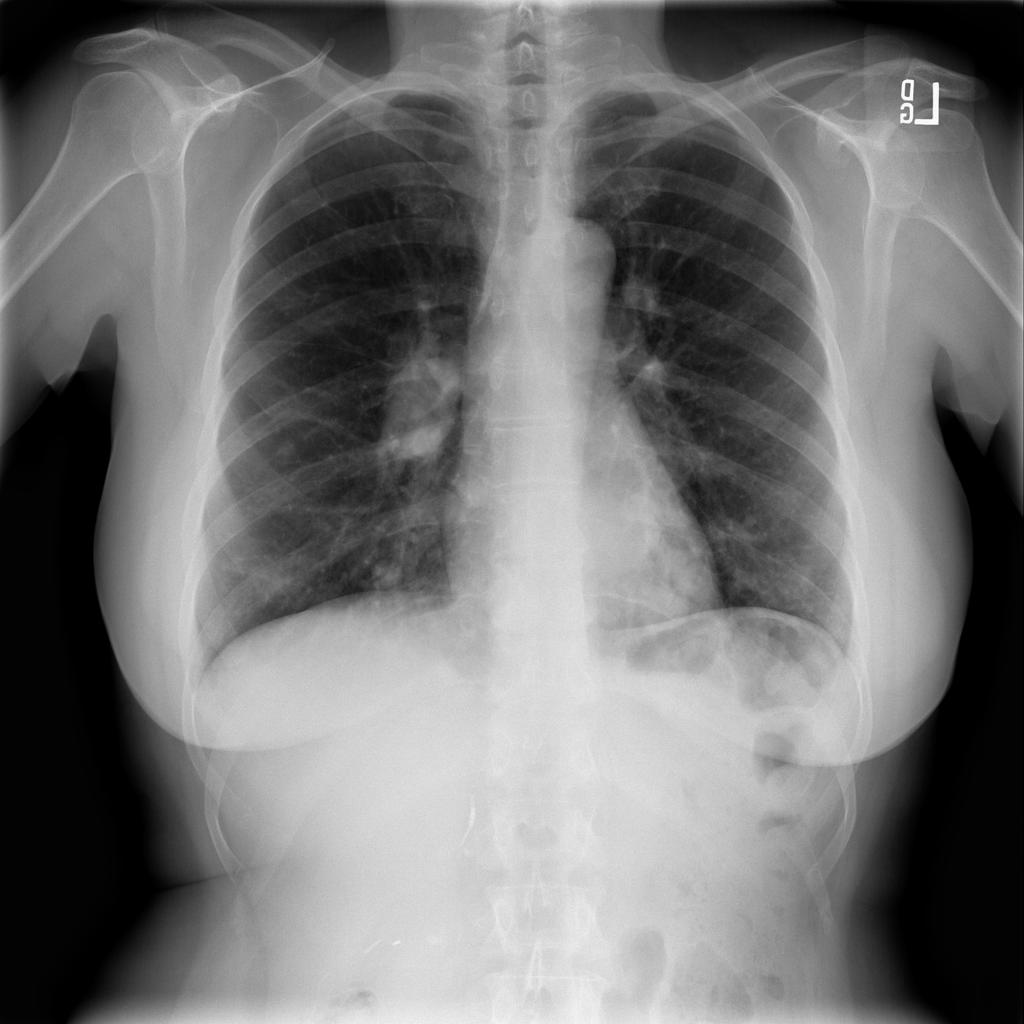nodule: (360, 319, 484, 473), (614, 488, 664, 542)
